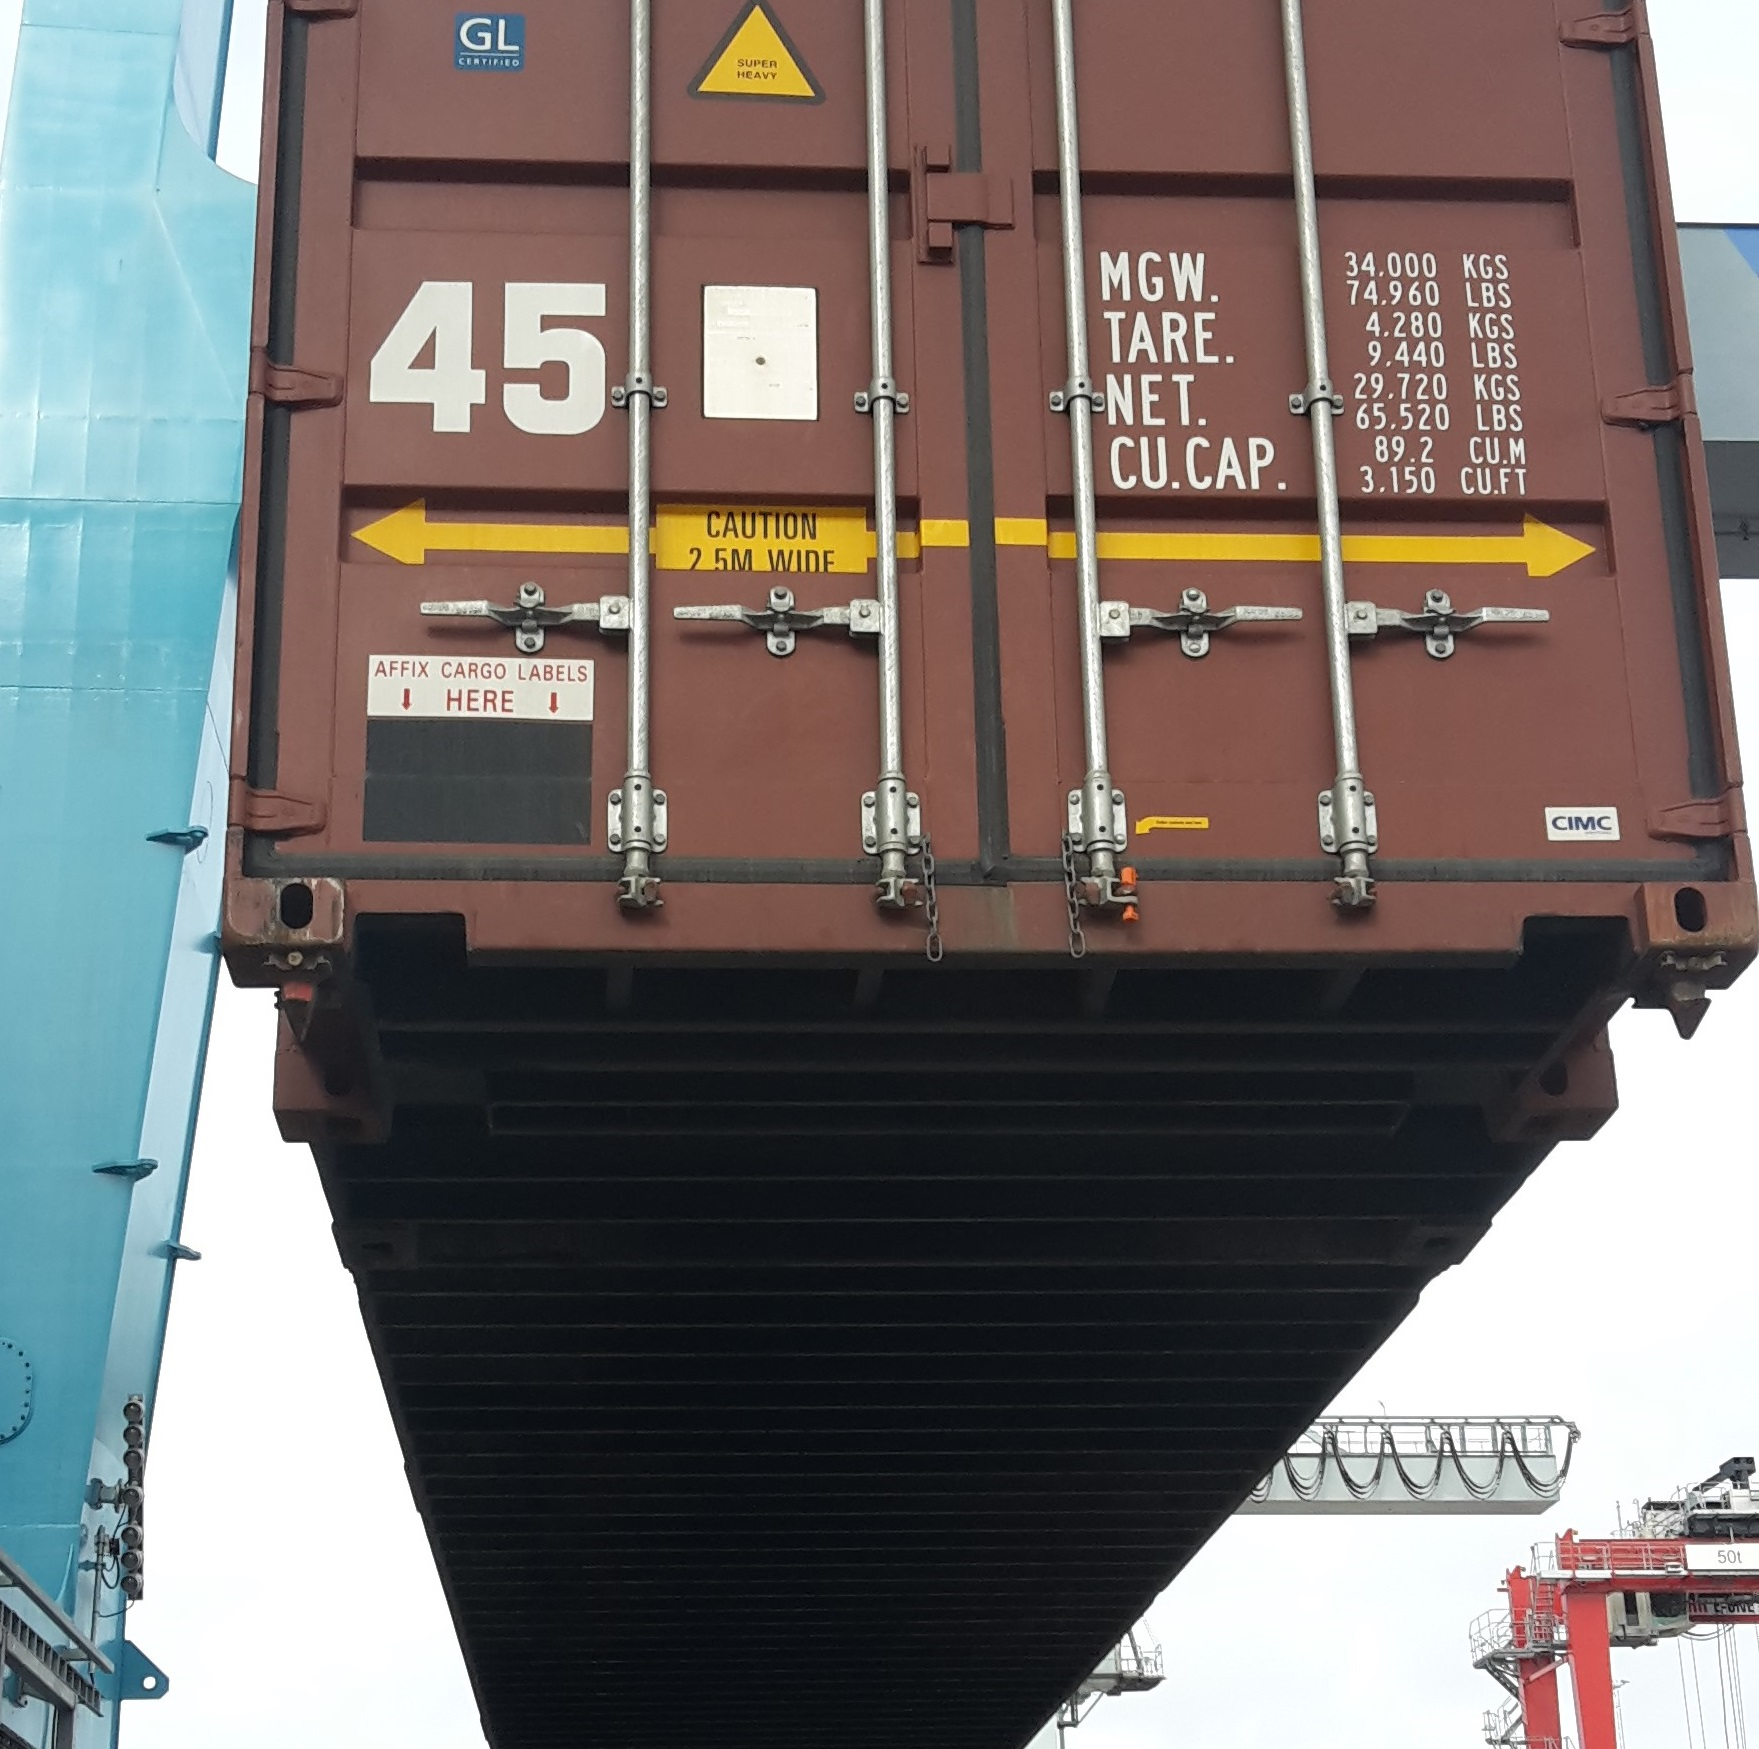container_door: (215, 3, 1756, 979)
